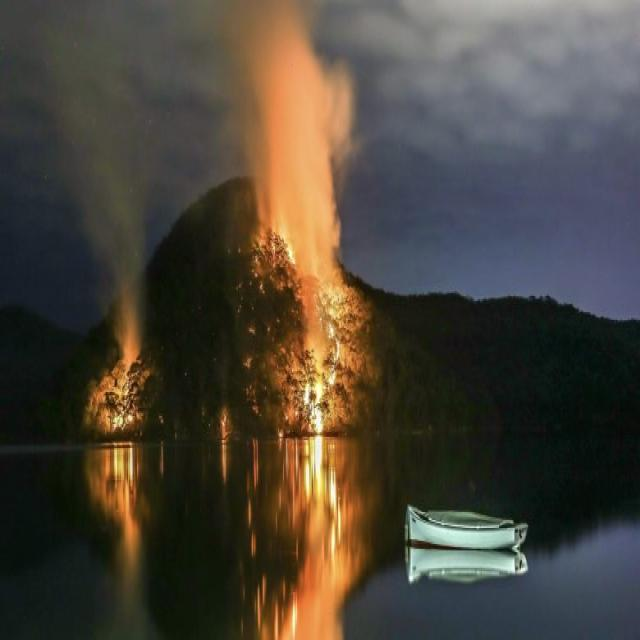Fire: (287, 270, 363, 430), (80, 333, 152, 429), (251, 213, 297, 272), (221, 406, 231, 436), (334, 347, 342, 361)
Smoke: (205, 3, 353, 270), (44, 59, 154, 331), (94, 202, 154, 282)
